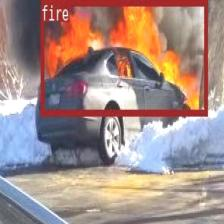fire: (40, 0, 207, 114)
